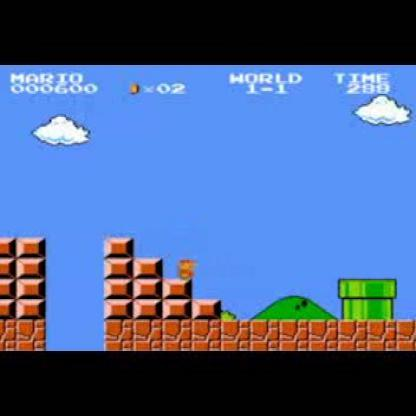Hoyo: (40, 319, 109, 351)
